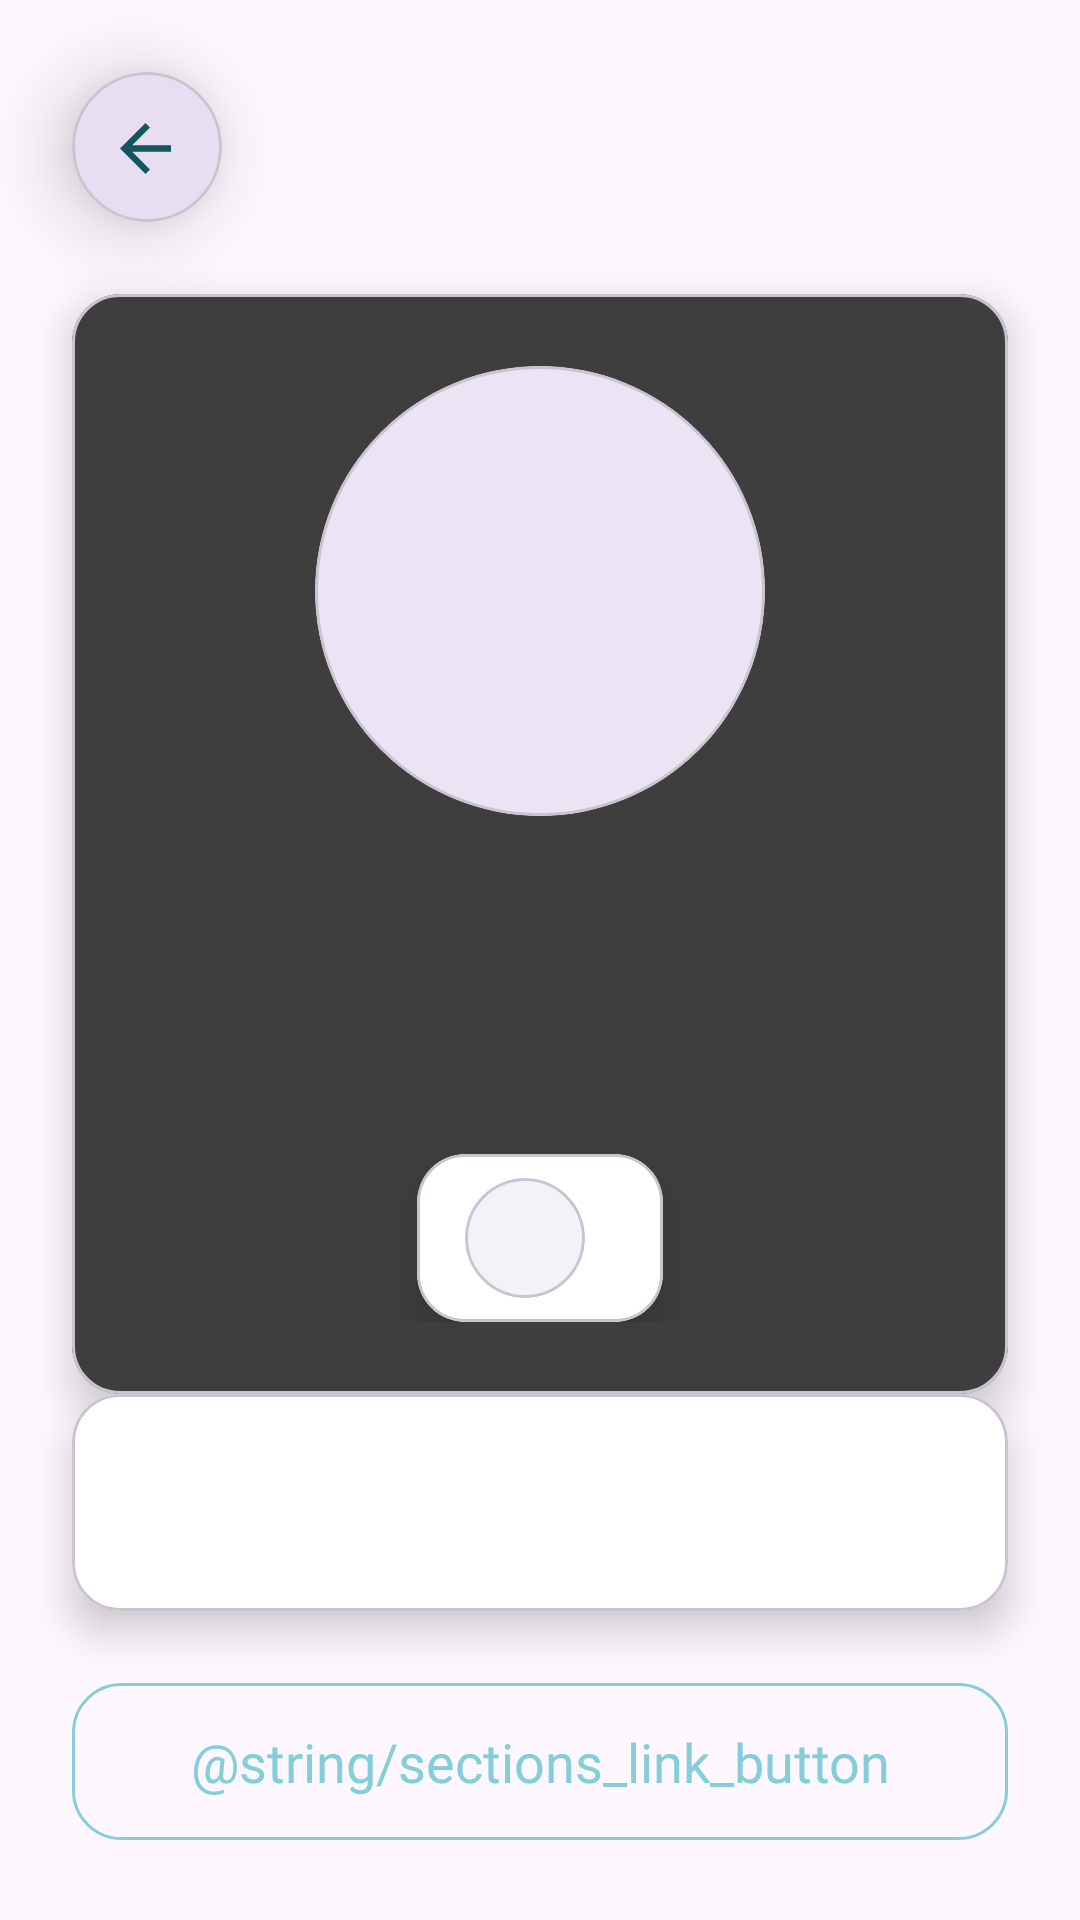

Point at icon controls on the screen. Image size 1080*1920, points as (x,y).
arrow back: (145,148)
